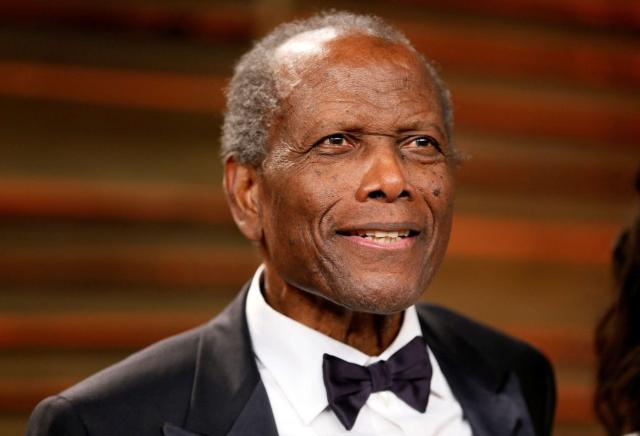crows_feet: (290, 140, 312, 168)
frown_line: (364, 124, 398, 146)
gummy_smile: (423, 193, 441, 235), (318, 194, 337, 232)
masseter: (304, 242, 330, 278)
